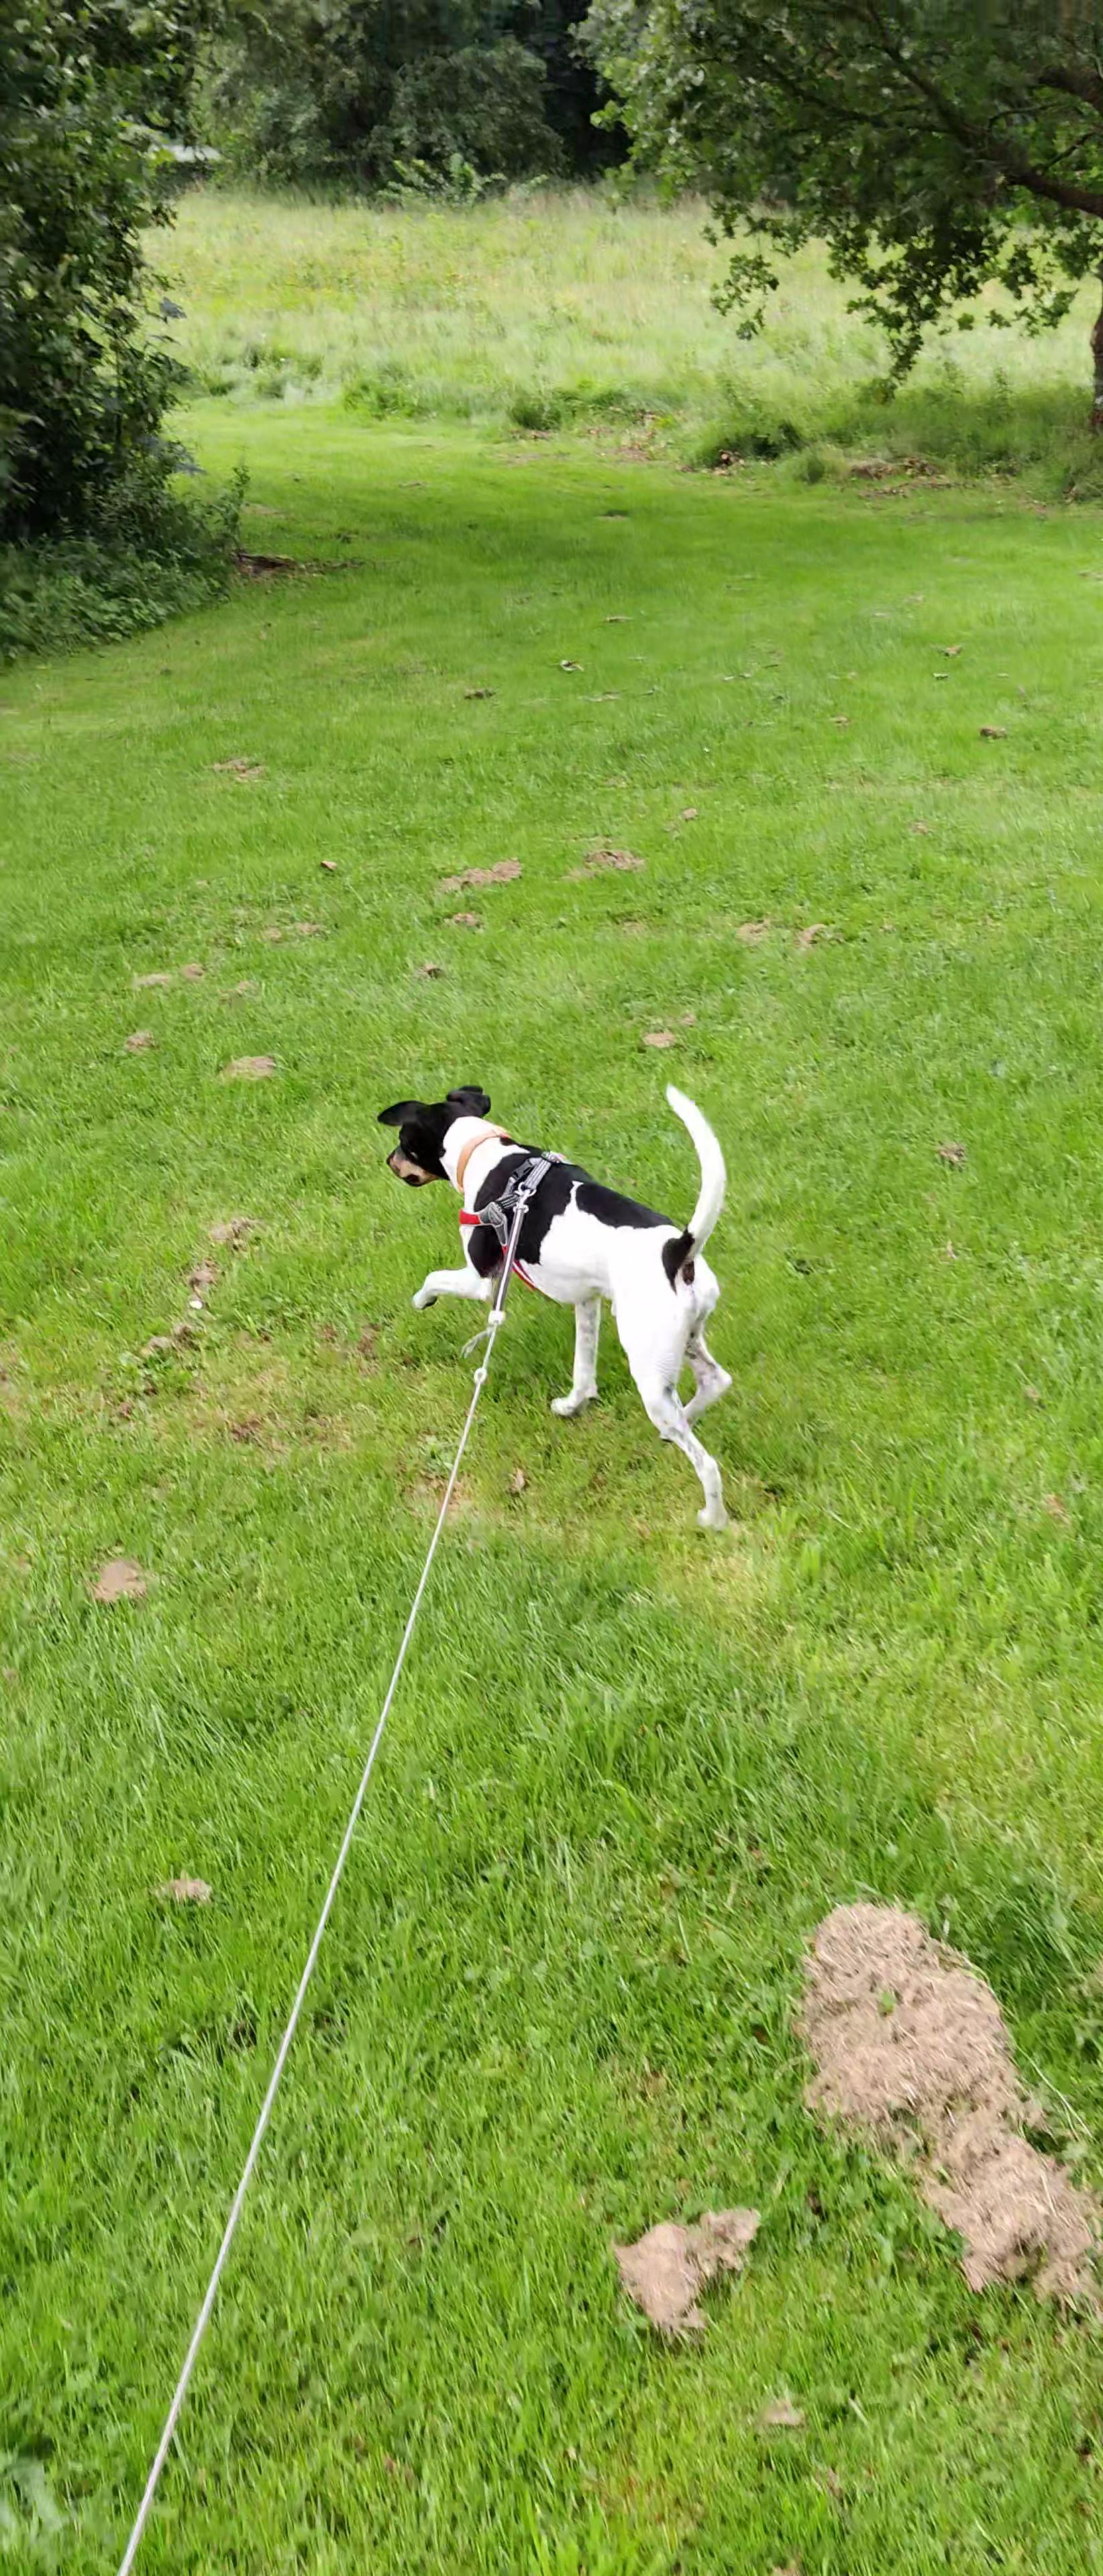Dog: (370, 1073, 751, 1541)
